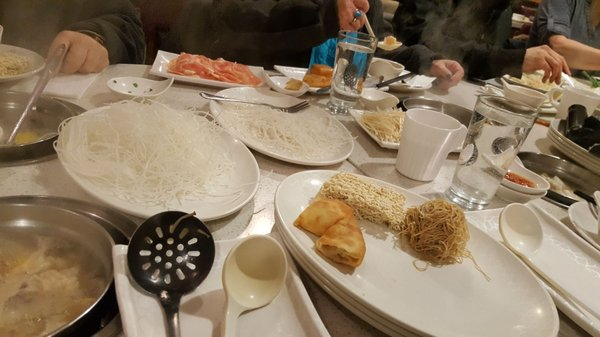salad: (127, 210, 215, 335), (8, 42, 67, 145), (8, 60, 54, 144)
sushi: (55, 99, 259, 225), (0, 199, 123, 334), (0, 43, 46, 148)
